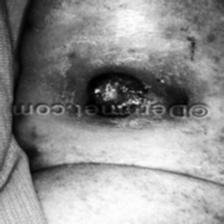Potentially Malignant Skin Tumors: (86, 76, 150, 106)
